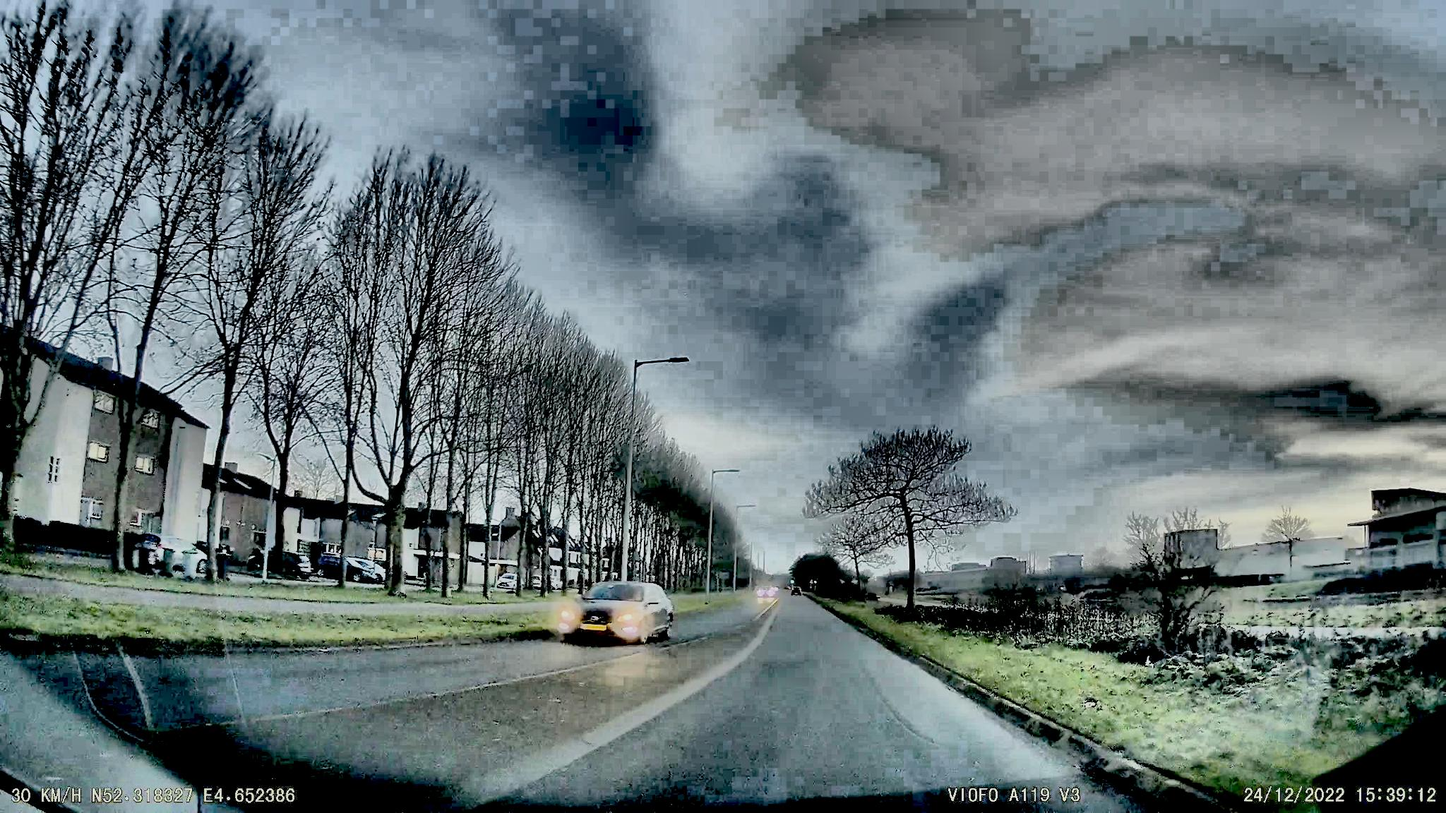Roads: (0, 595, 1254, 813)
